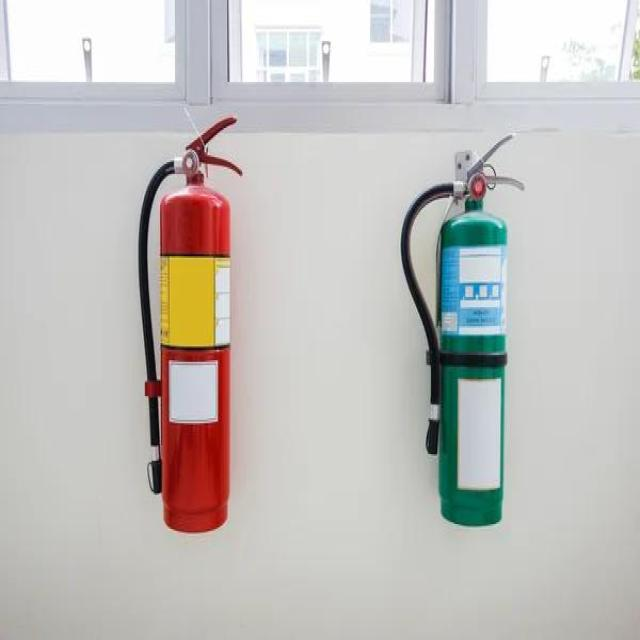fire_extinguisher: (397, 124, 527, 530), (134, 110, 246, 537)
